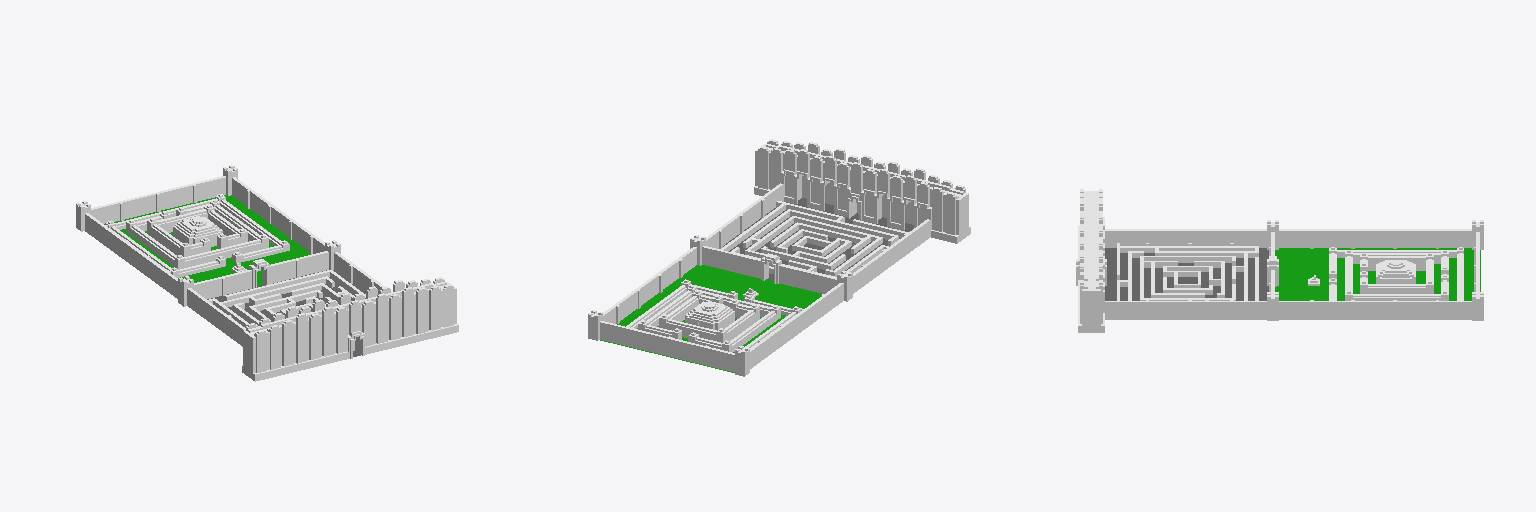
Rendered from maze.obj.
The picture shows the model from 3 angles: view 1: azimuth 30°, elevation 25°; view 2: azimuth 150°, elevation 25°; view 3: azimuth 270°, elevation 25°; orthographic projection.
Visible parts, largest first — view 1: 02_garden, main_wall, 01_maze, grass_plane; view 2: 02_garden, 01_maze, main_wall, grass_plane, stone_plane; view 3: 02_garden, 01_maze, grass_plane, main_wall, stone_plane.
Boxes of the visible parts, x1=… form: 02_garden: x1=76, y1=165, x2=324, y2=298; main_wall: x1=242, y1=277, x2=458, y2=381; 01_maze: x1=178, y1=240, x2=391, y2=346; grass_plane: x1=104, y1=195, x2=309, y2=285; 02_garden: x1=588, y1=247, x2=843, y2=376; 01_maze: x1=690, y1=183, x2=930, y2=301; main_wall: x1=754, y1=139, x2=970, y2=243; grass_plane: x1=600, y1=265, x2=821, y2=372; stone_plane: x1=723, y1=198, x2=913, y2=280; 02_garden: x1=1279, y1=220, x2=1483, y2=320; 01_maze: x1=1105, y1=220, x2=1278, y2=320; grass_plane: x1=1275, y1=248, x2=1480, y2=300; main_wall: x1=1076, y1=189, x2=1106, y2=332; stone_plane: x1=1105, y1=248, x2=1268, y2=300.
Bounding box in the file's own units: 122 × 31 × 211.